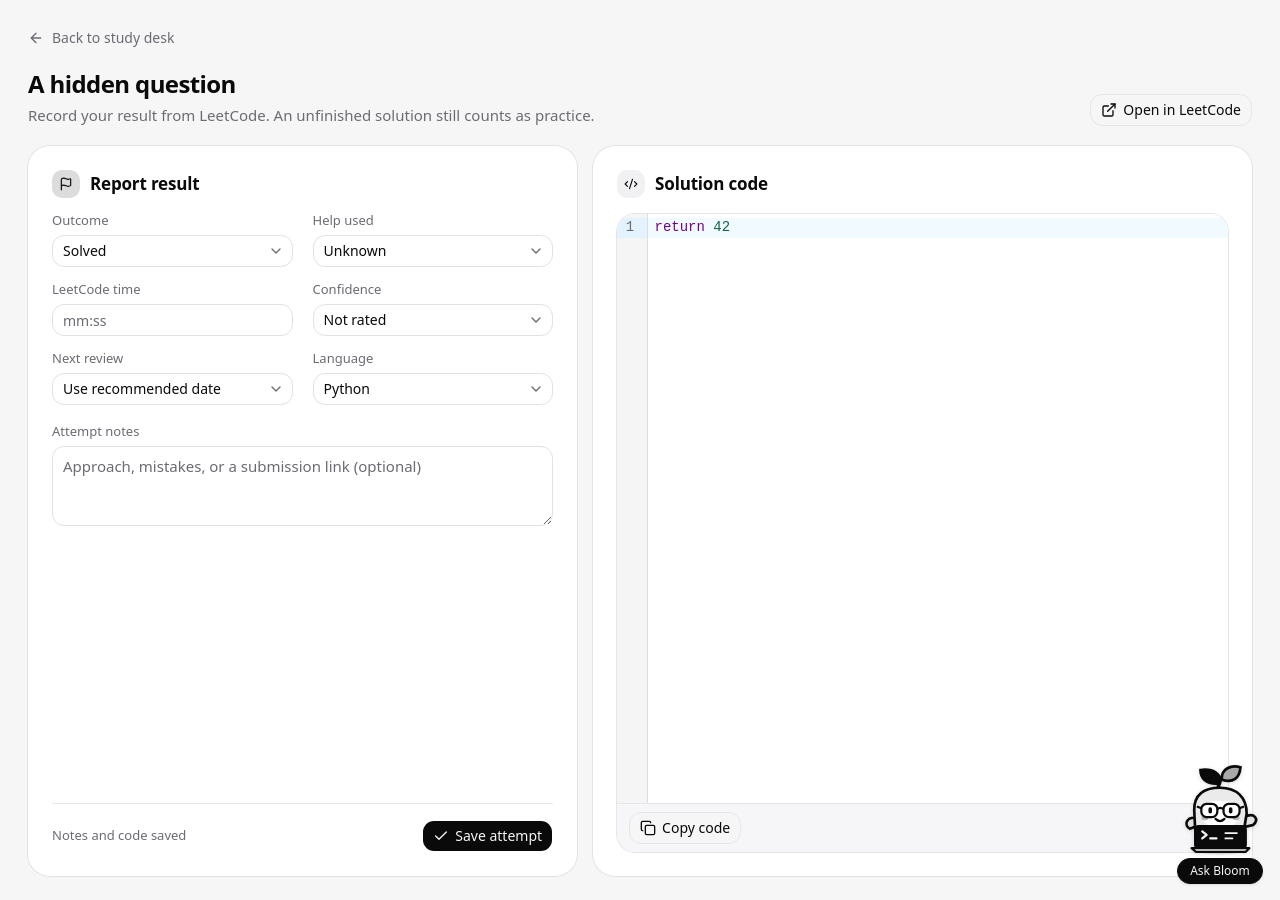
Test: locks an uncertain finish and retries the identical idempotent payload after a lost response
Type "9:53" into the field labelled "LeetCode time" at x=172, y=320, box 52,304 -> 292,336
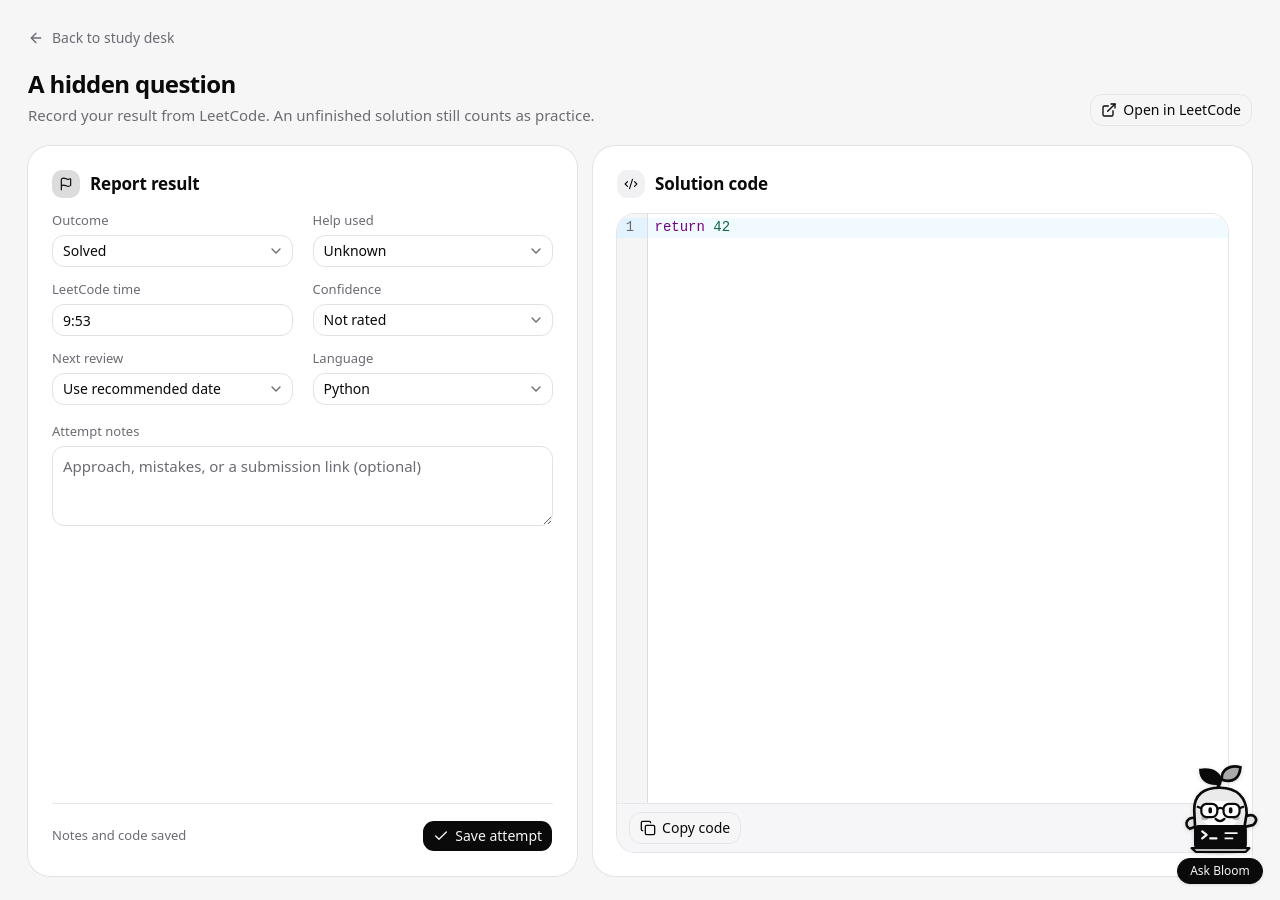
Click the button "Save attempt" at x=488, y=836, box 422,820 -> 553,852
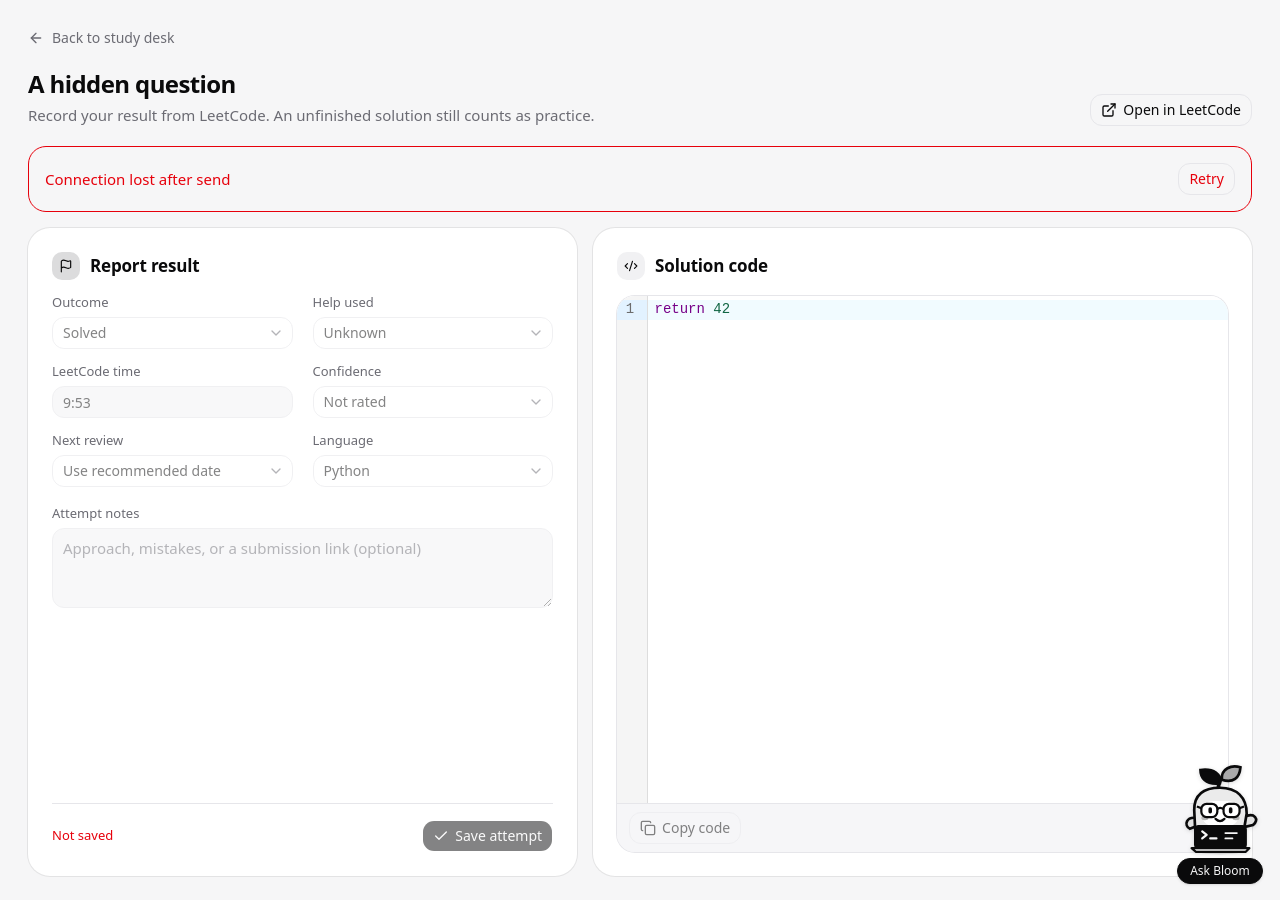
Expected: the message "Connection lost after send Retry" is shown, 28,146 -> 1252,212
Expected: the button "Save attempt" is disabled, 422,820 -> 553,852
Click the button "Retry" at x=1207, y=179, box 1178,163 -> 1235,195
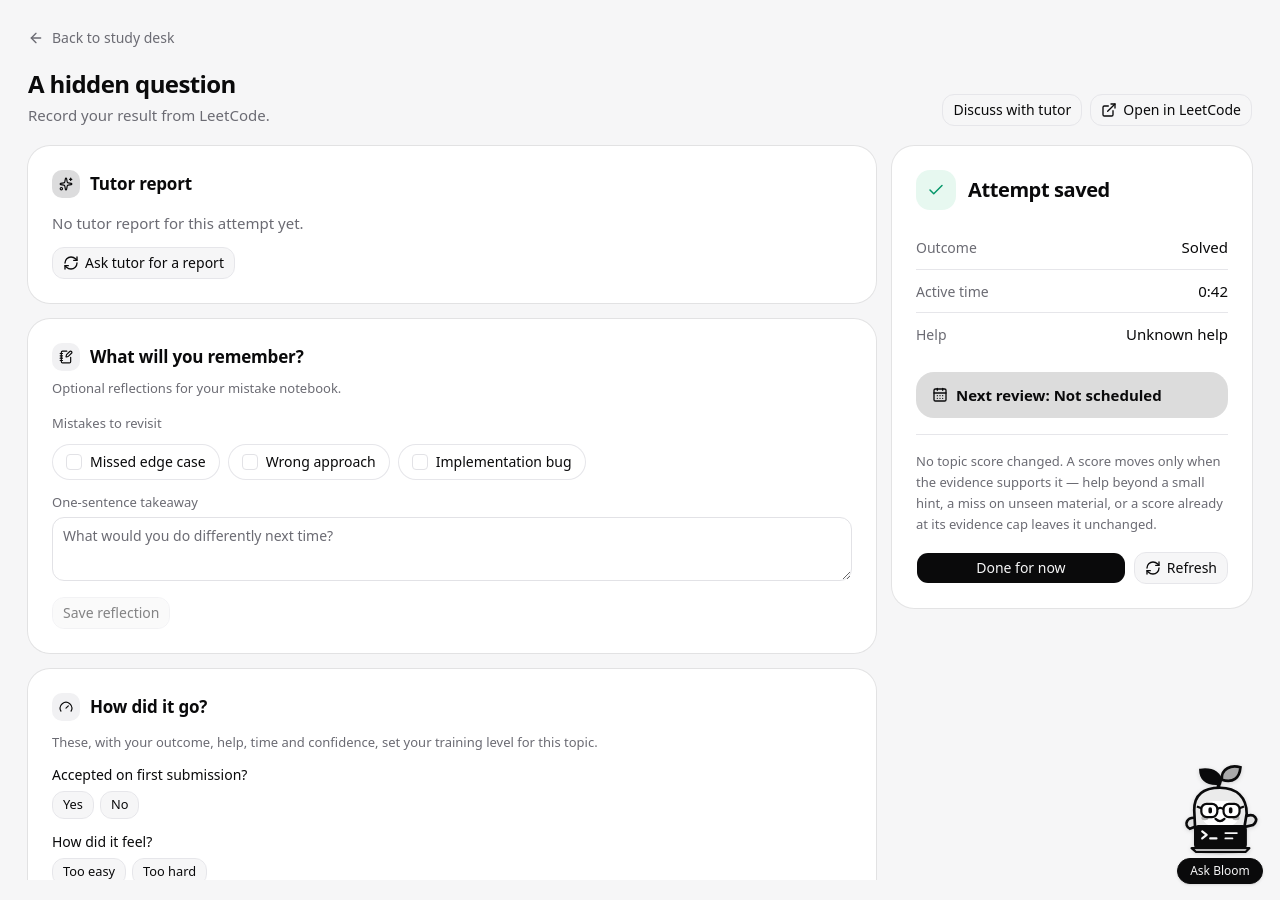
Expected: the heading "Attempt saved" is shown, 968,176 -> 1110,204
